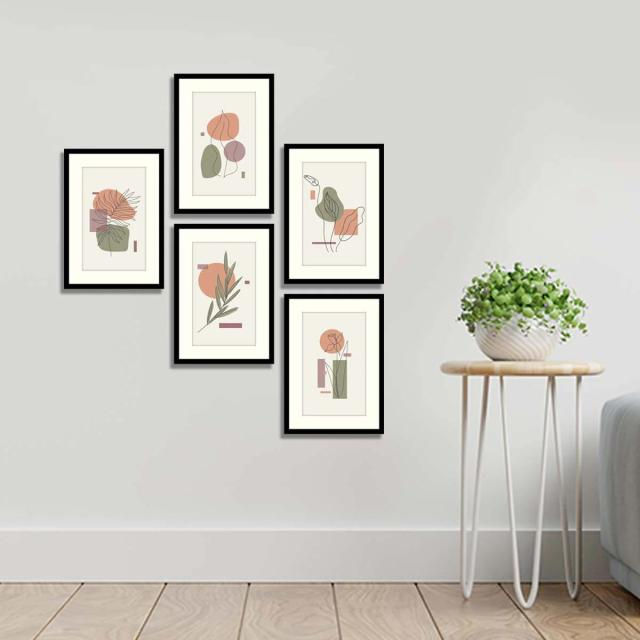painting: (284, 293, 384, 435), (174, 223, 274, 365), (63, 148, 163, 290), (286, 143, 385, 286), (175, 72, 274, 214)
